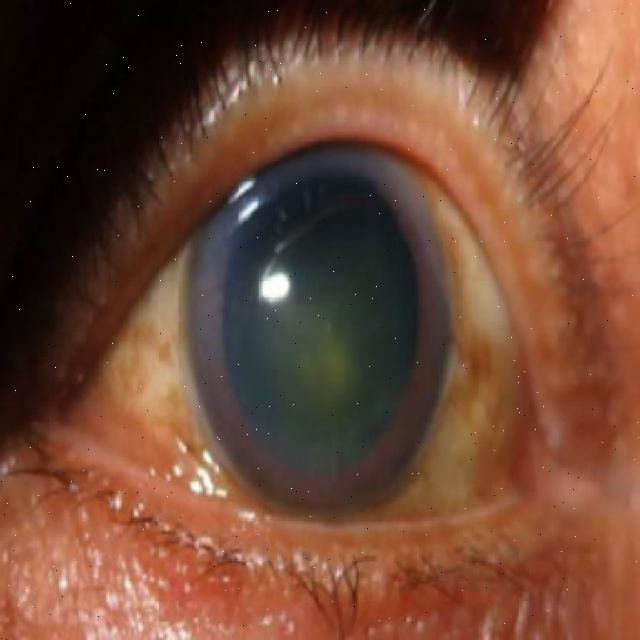Cataract: (186, 121, 446, 530)
